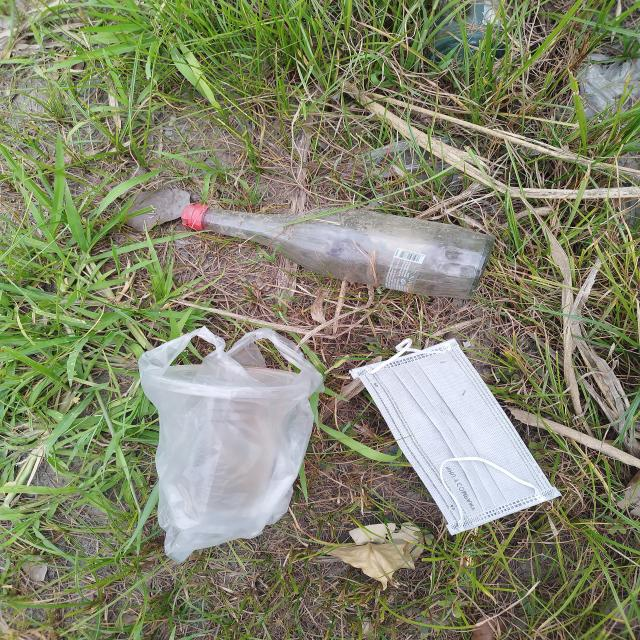bottle: (182, 203, 491, 300)
mask: (350, 339, 559, 536)
trash bag: (139, 326, 322, 566)
